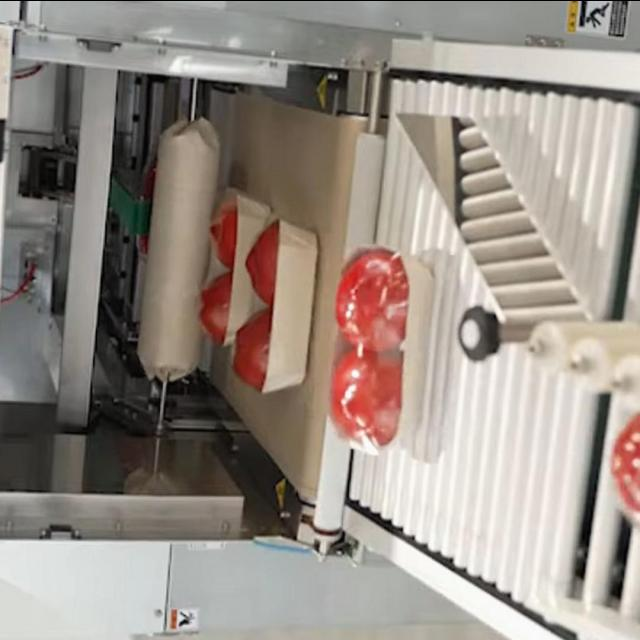food: (316, 239, 463, 462), (228, 206, 324, 402)
